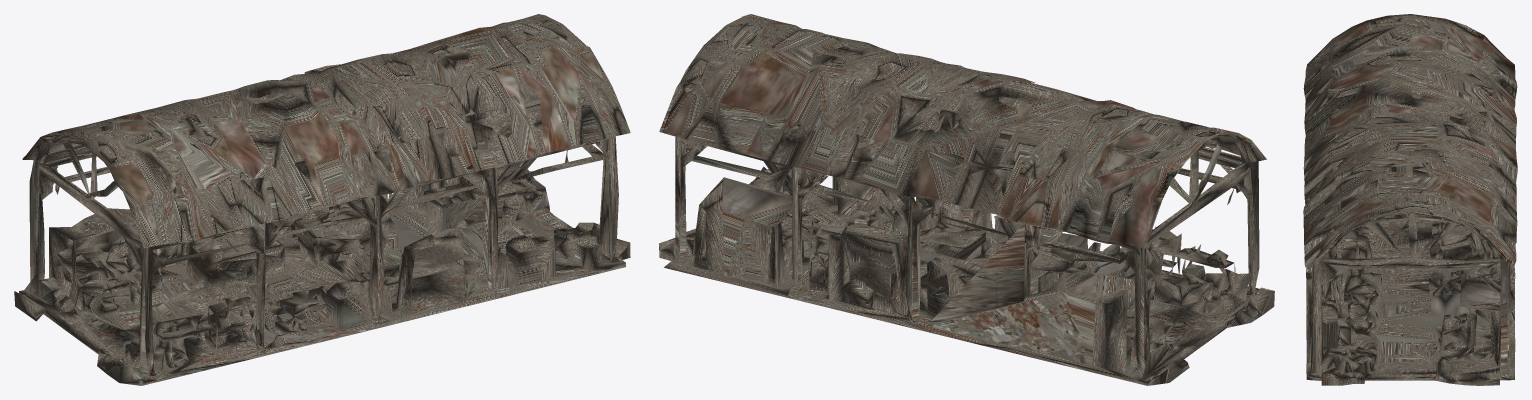
Rendered from worlportmarket.lod1.glb.
3 views of the same model, side by side, from view 1: azimuth 30°, elevation 25°; view 2: azimuth 150°, elevation 25°; view 3: azimuth 270°, elevation 25° (orthographic). The views are drawn at different scales.
Parts seen in each view (by area): view 1: worlportmarket-centred; view 2: worlportmarket-centred; view 3: worlportmarket-centred.
Boxes of the visible parts, x1=… form: worlportmarket-centred: x1=14, y1=14, x2=630, y2=385; worlportmarket-centred: x1=659, y1=14, x2=1274, y2=385; worlportmarket-centred: x1=1303, y1=14, x2=1517, y2=385.
Bounding box in the file's own units: 22 × 8.21 × 9.41.
1 material, 1 textured.
